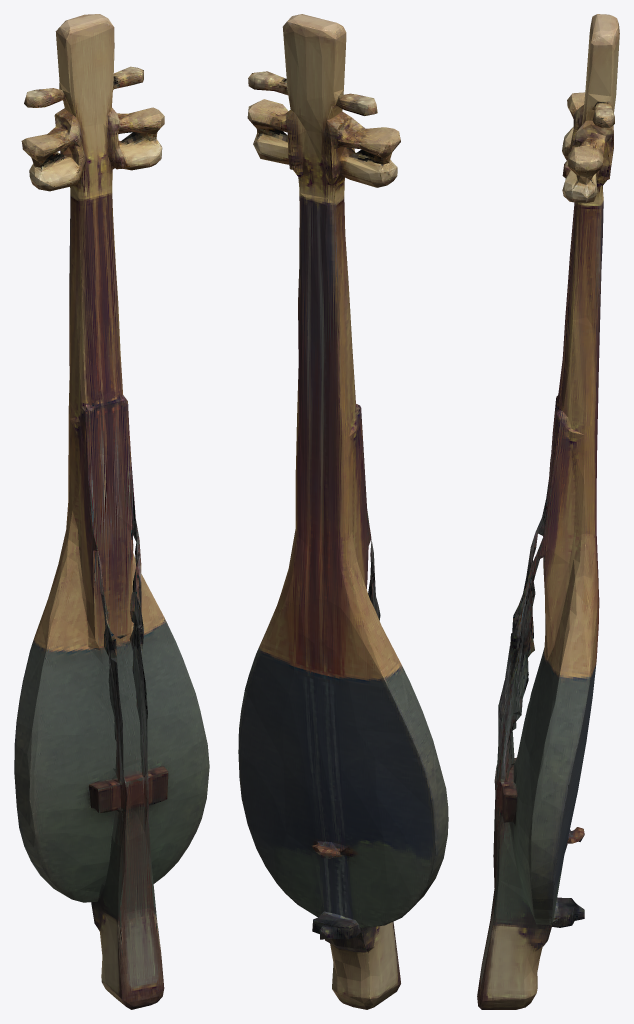
File: riau.glb
3 views of the same model, side by side, from view 1: azimuth 30°, elevation 25°; view 2: azimuth 150°, elevation 25°; view 3: azimuth 270°, elevation 25° (orthographic). The views are drawn at different scales.
Visible parts, largest first — view 1: world; view 2: world; view 3: world.
Part boxes in pixels (box(x1,y1,x2,y2)): world: box(14, 14, 209, 1009); world: box(238, 14, 448, 1009); world: box(477, 14, 619, 1009).
Size of the model in its own units: 0.1411 by 0.6999 by 0.0922.
Materials: 1 (1 with a texture image).
